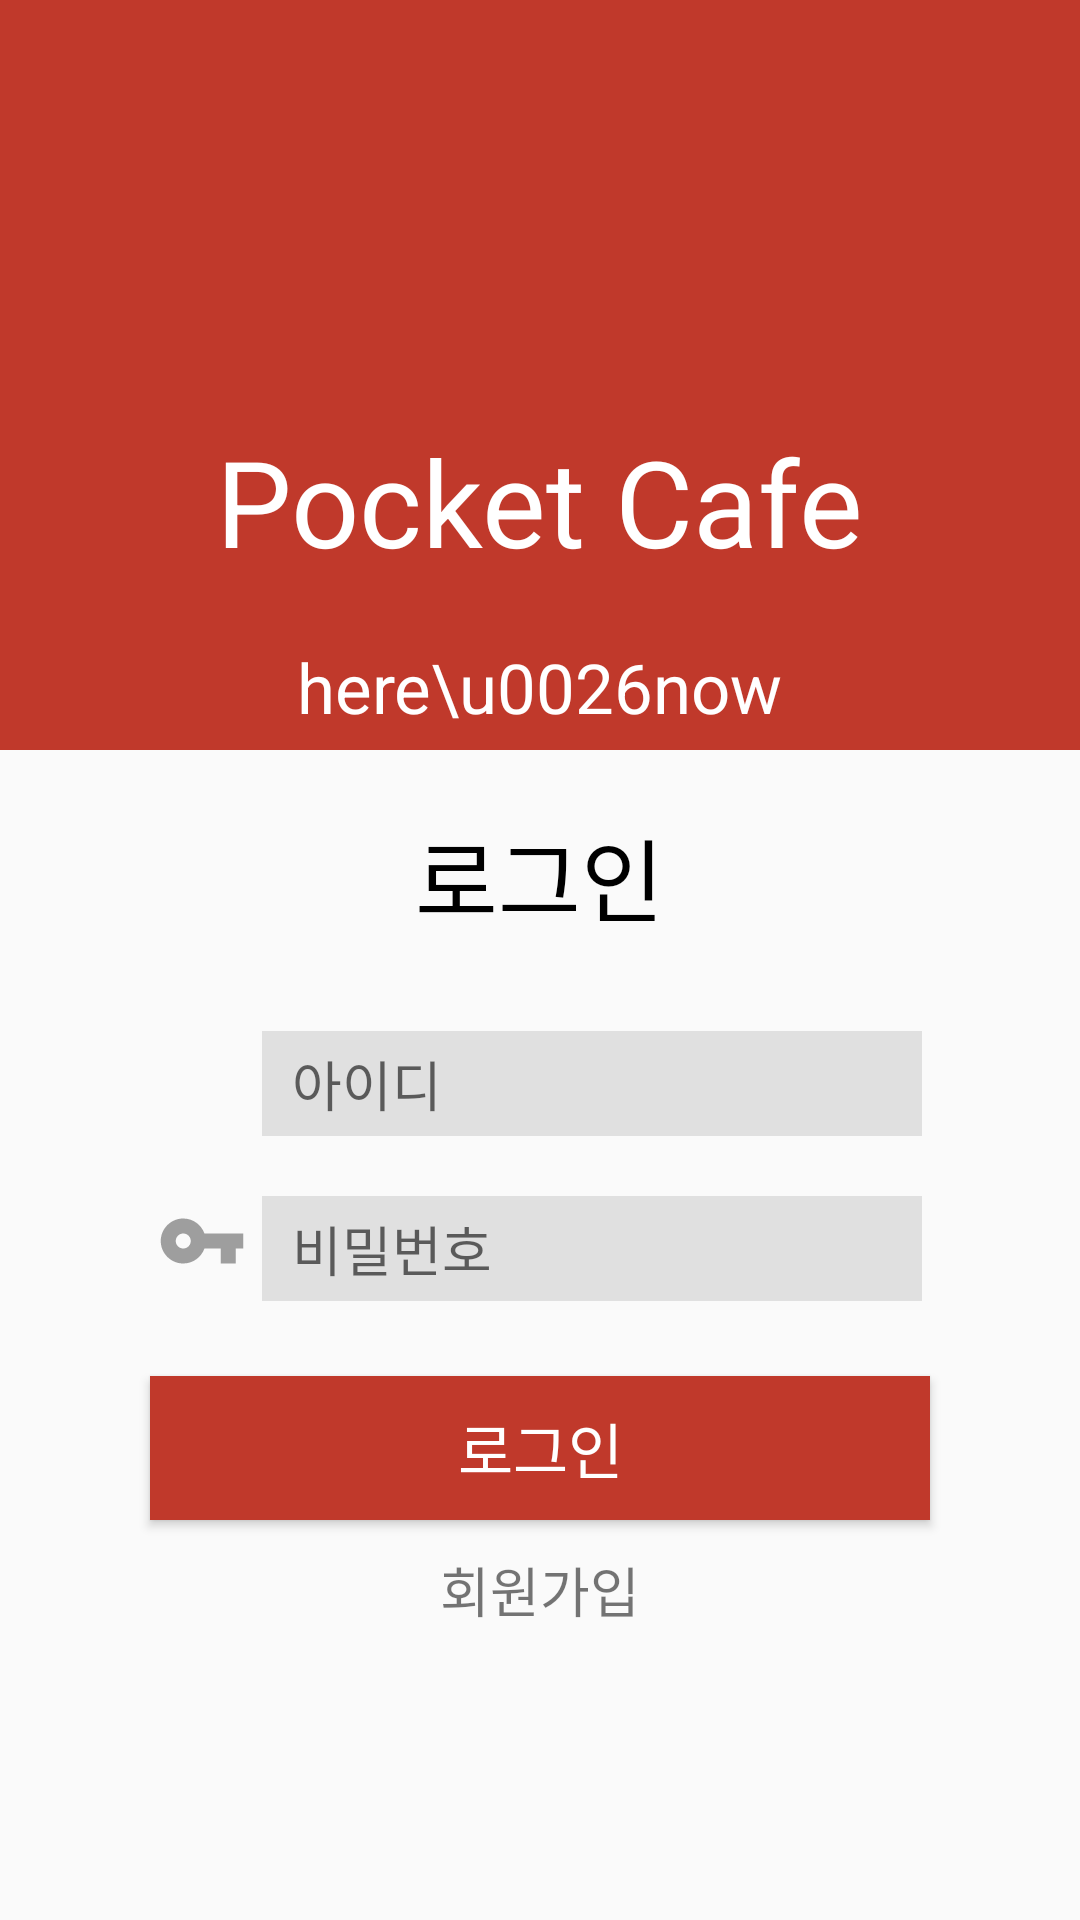

Named icons in this screenshot (1080×1920) and their bounding boxes, (x1, y1, x2, y2):
password: (161, 1218, 243, 1264)
